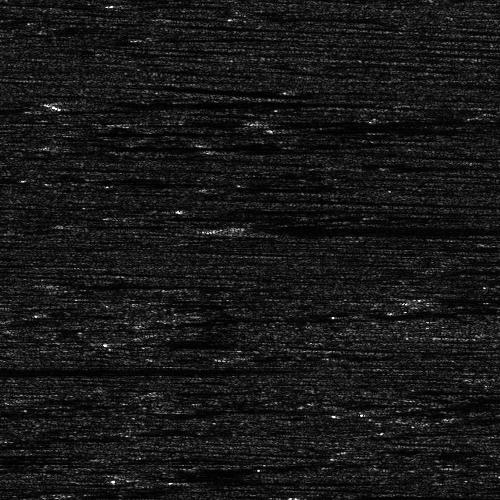rock: (267, 119, 360, 138), (218, 114, 311, 127), (202, 222, 295, 235), (17, 140, 122, 151), (435, 236, 500, 245), (98, 212, 161, 219), (174, 205, 247, 210), (60, 101, 91, 108), (60, 129, 91, 134)
shadow: (314, 119, 500, 138), (249, 222, 500, 235), (265, 114, 500, 127), (70, 140, 321, 151), (76, 101, 321, 108), (211, 205, 475, 210), (0, 364, 179, 371), (76, 129, 265, 134), (130, 212, 259, 219), (0, 493, 73, 500), (54, 283, 243, 284), (482, 236, 500, 245), (0, 409, 24, 412)
